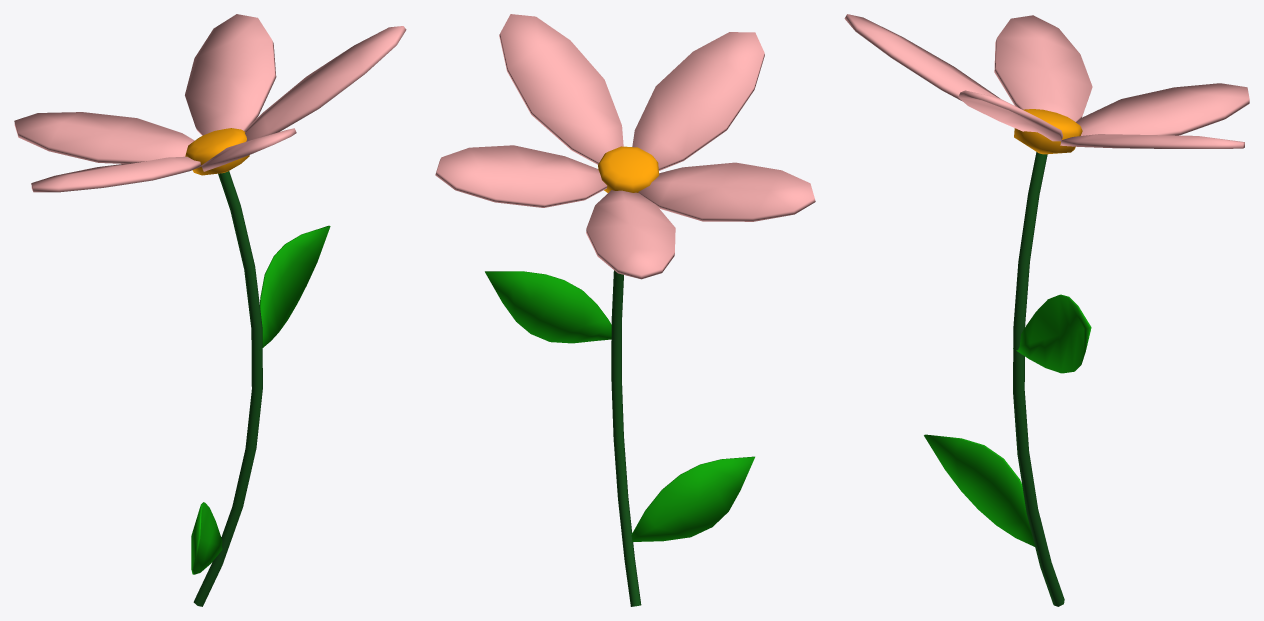
File: Flower-1.fbx
3 renders of one model, left to right at view 1: azimuth 30°, elevation 25°; view 2: azimuth 150°, elevation 25°; view 3: azimuth 270°, elevation 25°, orthographic. The views are drawn at different scales.
Visible parts, largest first — view 1: Flower-1; view 2: Flower-1; view 3: Flower-1.
Part boxes in pixels (<box>): Flower-1: <box>14,14,406,606</box>; Flower-1: <box>435,14,815,606</box>; Flower-1: <box>844,14,1249,606</box>.
Size of the model in its own units: 11.42 by 17.62 by 10.84.
